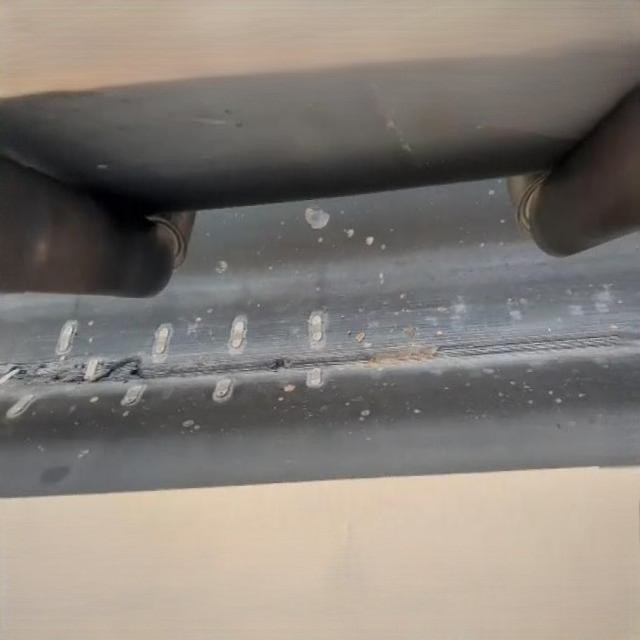Tear: (81, 349, 154, 387)
Wear: (0, 330, 640, 394)
